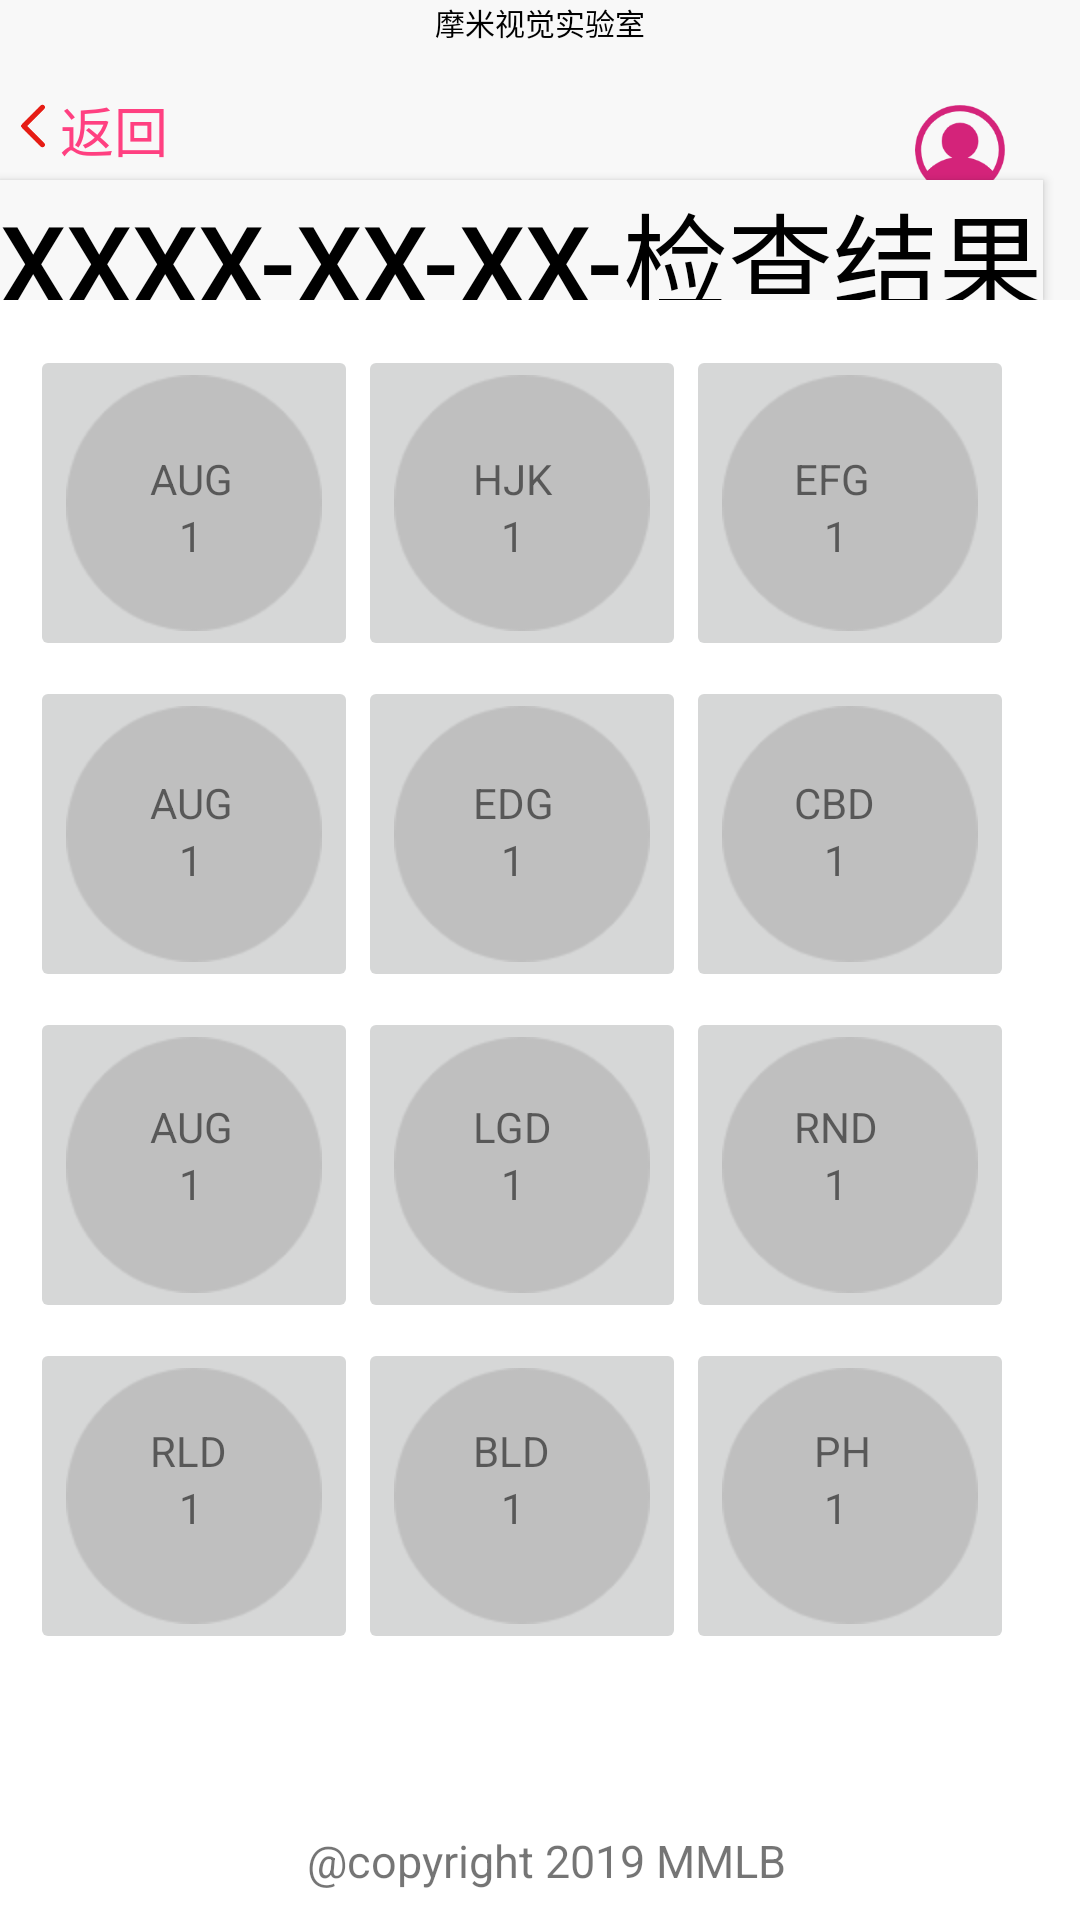

Icons on this 1080w x 1920h Android screen, each with its box as region(x1, y1, x2, y2):
head: region(915, 105, 1005, 180)
pointleft: region(21, 104, 45, 148)
